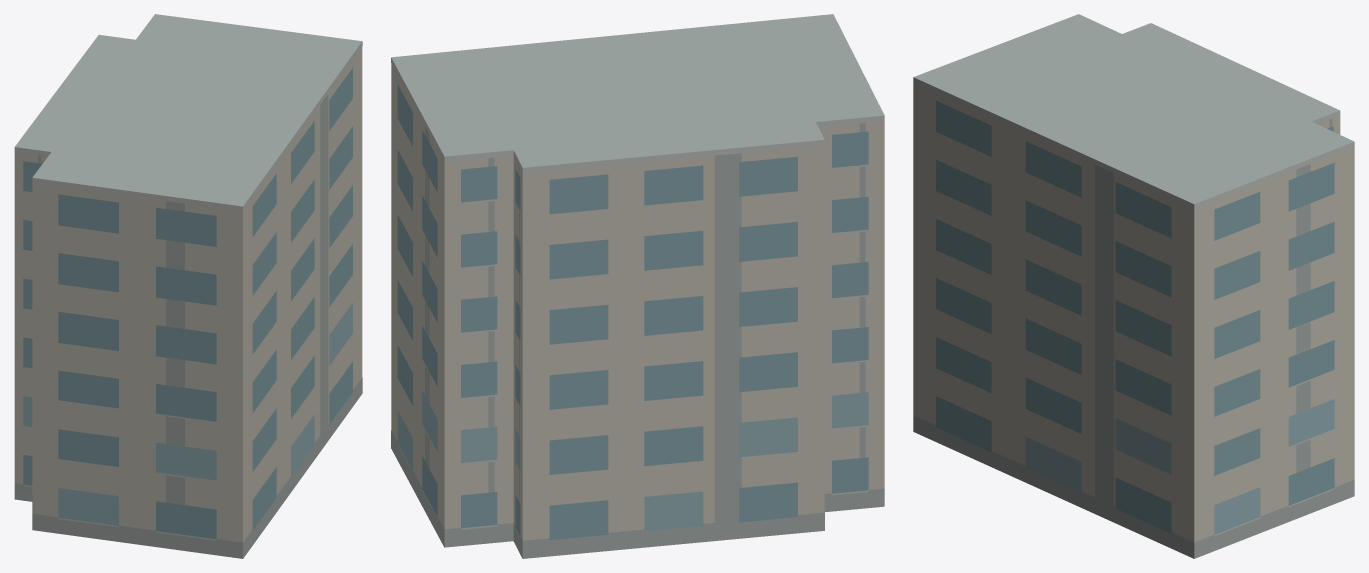
File: survey-upis-32890874.glb
The picture shows the model from 3 angles, left to right: view 1: azimuth 30°, elevation 25°; view 2: azimuth 150°, elevation 25°; view 3: azimuth 270°, elevation 25°; orthographic projection. The views are drawn at different scales.
Visible parts, largest first — view 1: survey-upis-32890874.tmp; view 2: survey-upis-32890874.tmp; view 3: survey-upis-32890874.tmp.
Boxes of the visible parts, x1=… form: survey-upis-32890874.tmp: x1=14, y1=14, x2=362, y2=558; survey-upis-32890874.tmp: x1=391, y1=14, x2=884, y2=558; survey-upis-32890874.tmp: x1=913, y1=14, x2=1354, y2=558.
Size of the model in its own units: 19.46 by 16.9 by 19.07.
